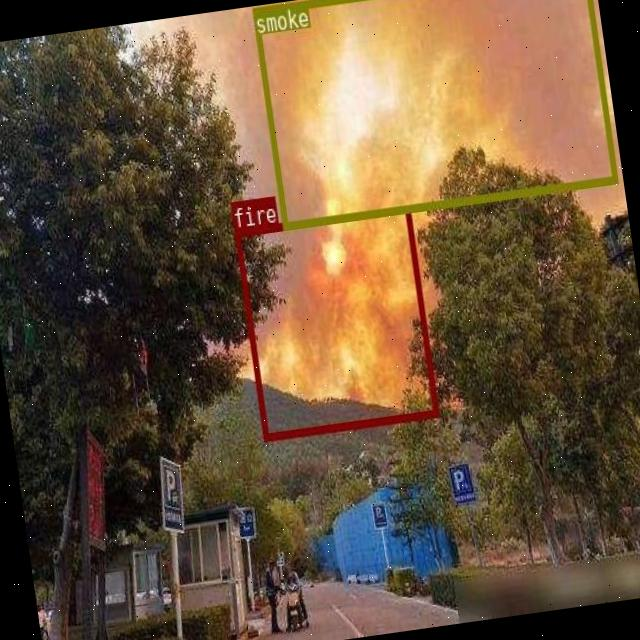fire: (234, 204, 438, 441)
smoke: (251, 0, 617, 228)
